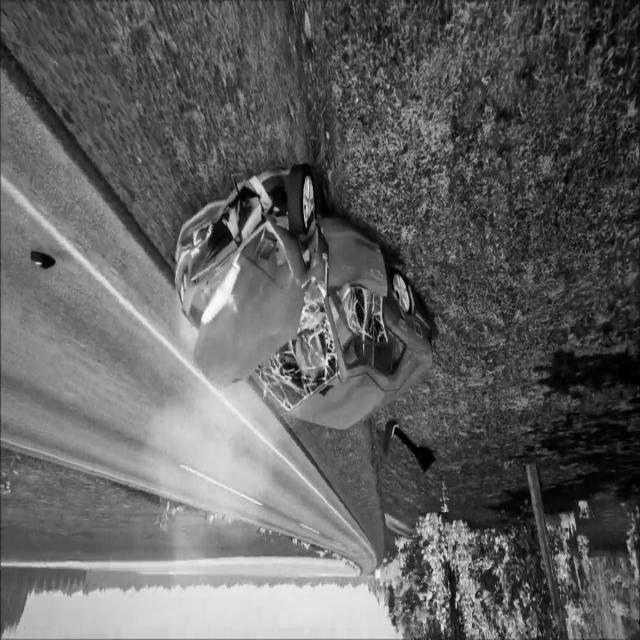severe: (170, 167, 438, 437)
